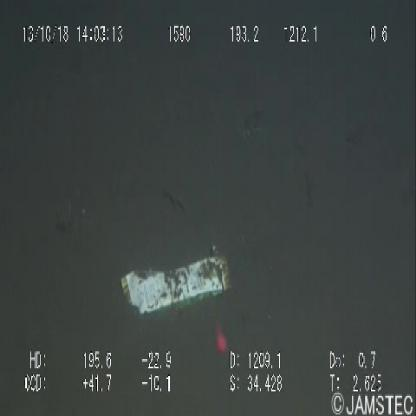Rác: (107, 236, 234, 320)
